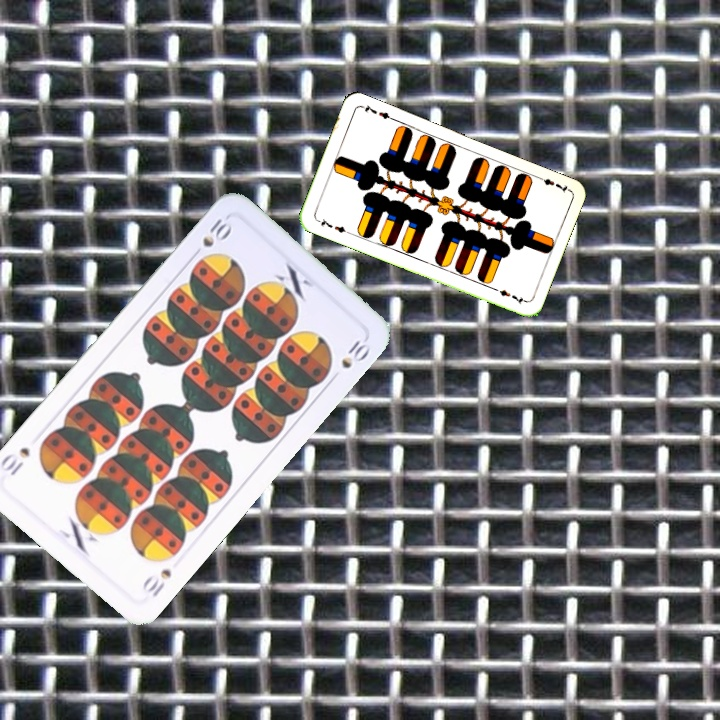E7: (532, 172, 571, 195), (313, 214, 352, 236)
S10: (187, 214, 235, 261), (138, 564, 174, 600)
